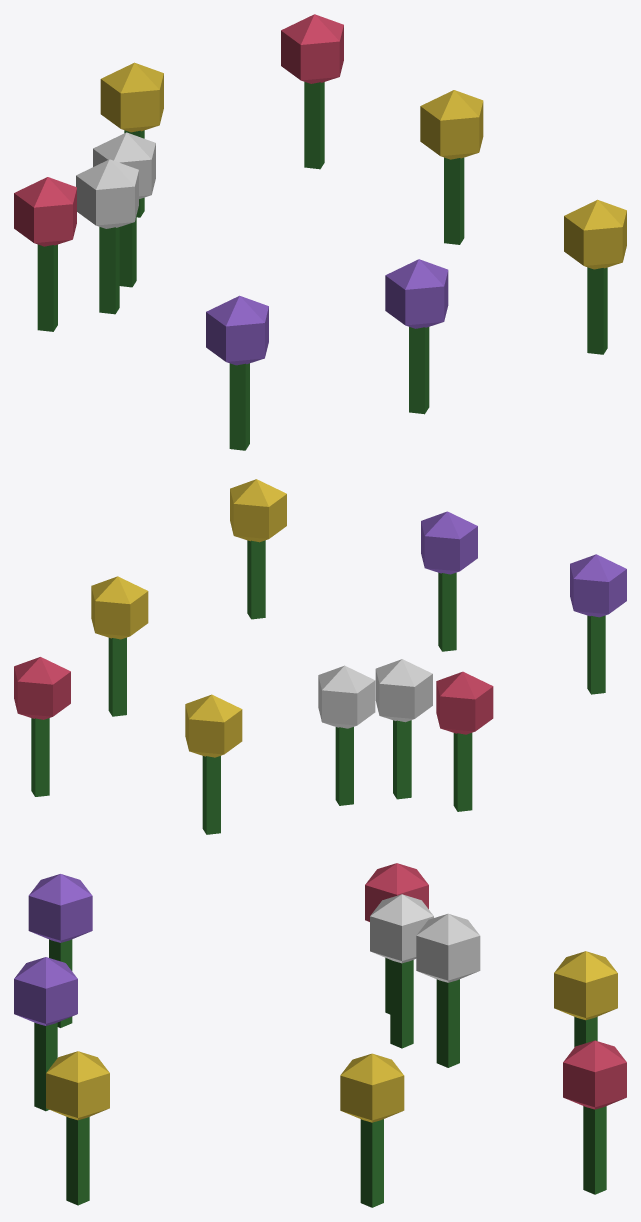
Rendered from p_flowers.glb.
3 views of the same model, one above another, from view 1: azimuth 30°, elevation 25°; view 2: azimuth 150°, elevation 25°; view 3: azimuth 270°, elevation 25° (orthographic). The views are drawn at different scales.
Visible parts, largest first — view 1: p_flowers; view 2: p_flowers; view 3: p_flowers.
Boxes of the visible parts, left/top/right/bottom form: p_flowers: left=14, top=14, right=626, bottom=450; p_flowers: left=14, top=479, right=626, bottom=834; p_flowers: left=14, top=863, right=626, bottom=1207.
Bounding box in the file's own units: 0.5272 × 0.17 × 0.6318.
